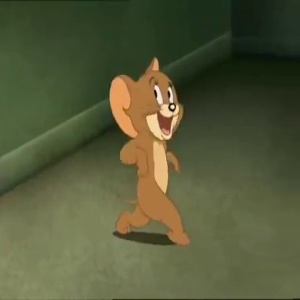Jerry: (106, 57, 190, 140)
